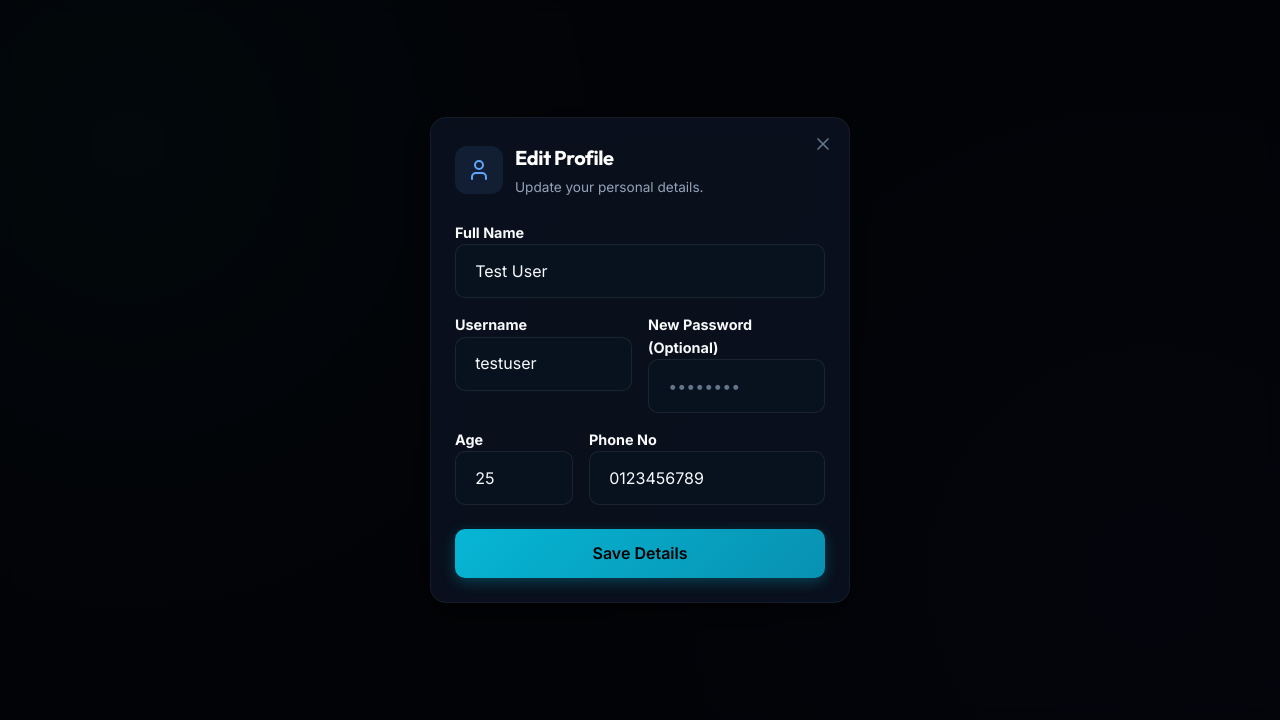
Test: Sprint Fixes & Enhancements › Item 13: Password Security Guidance with Special Characters/Symbols › renders password security guide only when password box is clicked/focused in EditProfileModal
Note: Click / focus the password input
Focus the password field with placeholder "••••••••" at (736,386), box [648, 359, 825, 413]
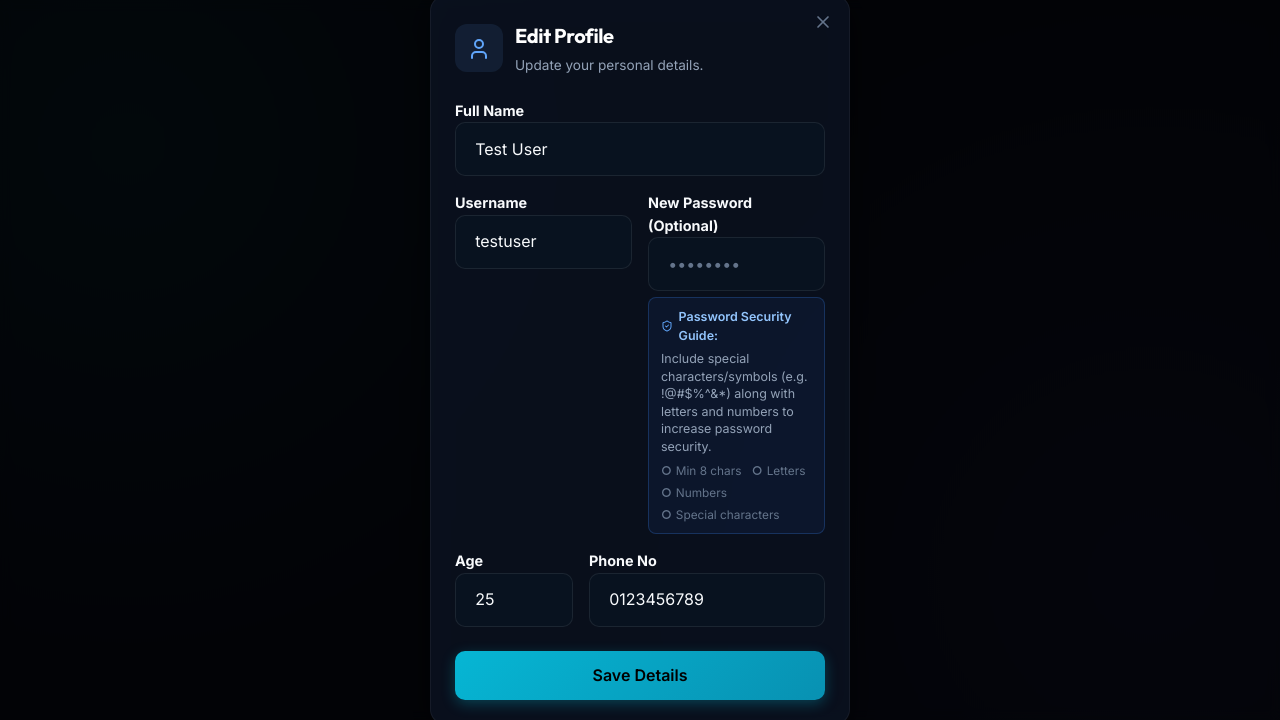
Check: the text "Password Security Guide:" is shown, box [679, 309, 792, 343]
Check: the text "○ Min 8 chars" is shown, box [661, 462, 741, 480]
Note: On blur, guide is hidden again
Leave the password field with placeholder "••••••••", box [648, 238, 825, 292]
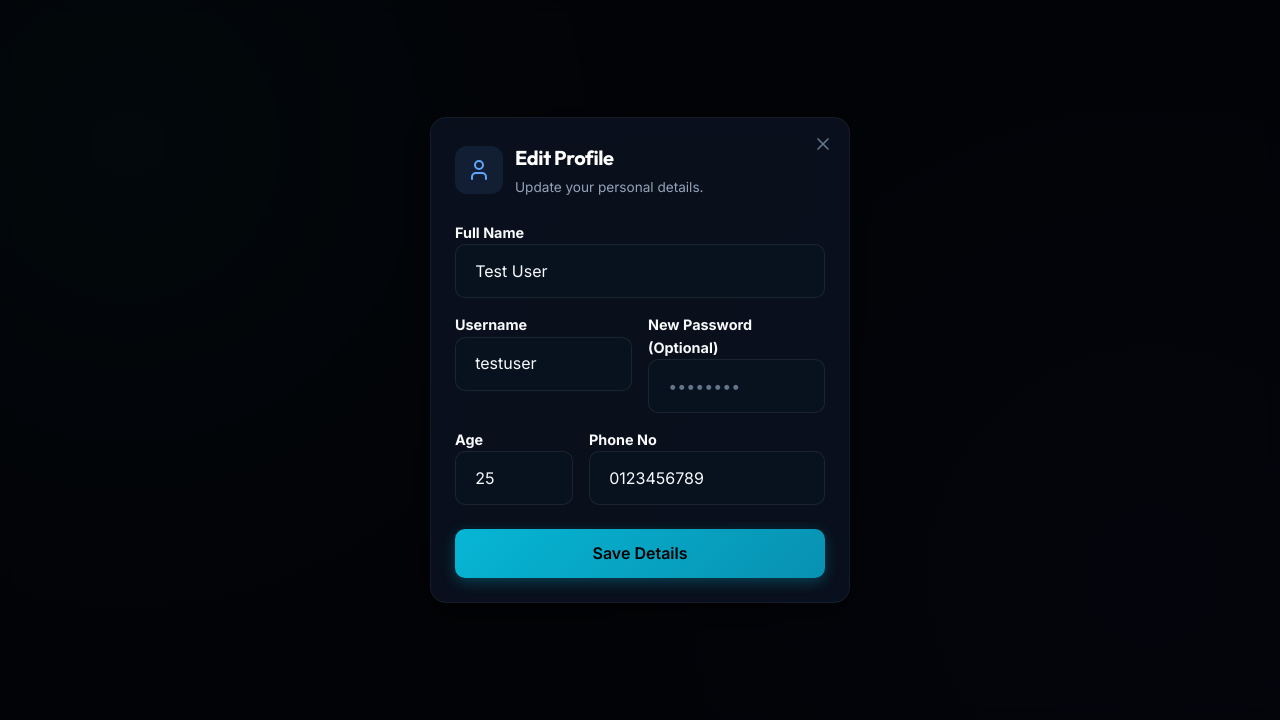
Check: the text "Password Security Guide:" is gone
